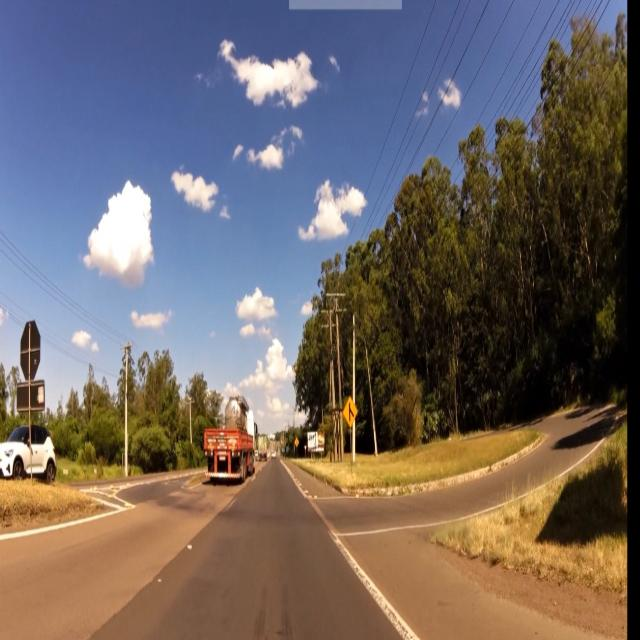A-13b: (343, 399, 361, 430)
